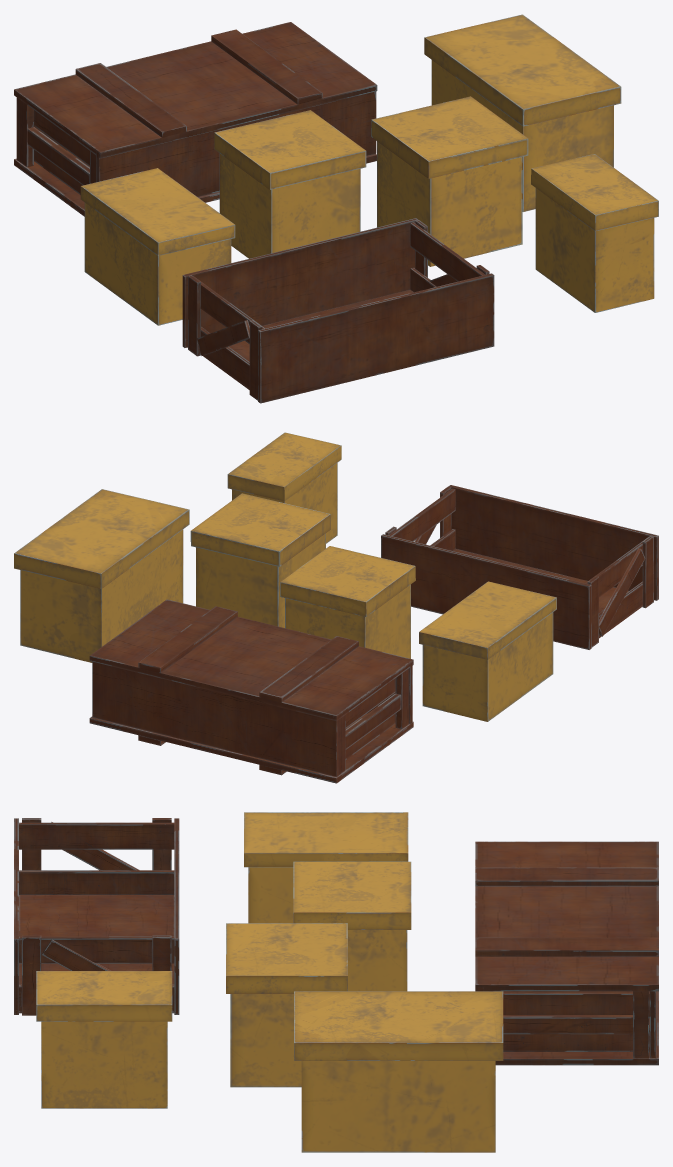
The picture shows the model from 3 angles, top to bottom: view 1: azimuth 30°, elevation 25°; view 2: azimuth 150°, elevation 25°; view 3: azimuth 270°, elevation 25°; orthographic projection. The views are drawn at different scales.
Parts seen in each view (by area): view 1: Wooden Box 2 Open, Wooden Box 1 Close, Box Carton Cover 3, Box Carton 1, Box Carton 5, Box Carton 4, Box Carton Cover 1, Box Carton 2, Box Carton Cover 2, Box Carton Cover 4, Box Carton 3, Box Carton Cover 5; view 2: Wooden Box 1 Close, Wooden Box 2 Open, Box Carton 3, Box Carton Cover 3, Box Carton 2, Box Carton Cover 1, Box Carton Cover 2, Box Carton Cover 4, Box Carton 1, Box Carton Cover 5, Box Carton 4, Box Carton 5; view 3: Wooden Box 1 Close, Wooden Box 2 Open, Box Carton 3, Box Carton Cover 3, Box Carton 5, Box Carton Cover 1, Box Carton Cover 2, Box Carton Cover 4, Box Carton Cover 5, Box Carton 1, Box Carton 4, Box Carton 2.
Boxes of the visible parts, x1=… form: Wooden Box 2 Open: x1=182, y1=218, x2=494, y2=403; Wooden Box 1 Close: x1=14, y1=22, x2=377, y2=216; Box Carton Cover 3: x1=424, y1=14, x2=621, y2=126; Box Carton 1: x1=377, y1=141, x2=522, y2=266; Box Carton 5: x1=535, y1=188, x2=654, y2=312; Box Carton 4: x1=219, y1=153, x2=360, y2=258; Box Carton Cover 1: x1=371, y1=96, x2=528, y2=178; Box Carton 2: x1=84, y1=202, x2=231, y2=325; Box Carton Cover 2: x1=80, y1=168, x2=235, y2=255; Box Carton Cover 4: x1=214, y1=110, x2=366, y2=189; Box Carton 3: x1=431, y1=60, x2=613, y2=211; Box Carton Cover 5: x1=531, y1=154, x2=658, y2=231; Wooden Box 1 Close: x1=89, y1=599, x2=413, y2=783; Wooden Box 2 Open: x1=381, y1=485, x2=658, y2=649; Box Carton 3: x1=20, y1=529, x2=183, y2=662; Box Carton Cover 3: x1=14, y1=489, x2=189, y2=588; Box Carton 2: x1=422, y1=612, x2=553, y2=721; Box Carton Cover 1: x1=190, y1=493, x2=330, y2=566; Box Carton Cover 2: x1=419, y1=581, x2=556, y2=659; Box Carton Cover 4: x1=280, y1=546, x2=415, y2=616; Box Carton 1: x1=196, y1=533, x2=325, y2=627; Box Carton Cover 5: x1=227, y1=432, x2=341, y2=501; Box Carton 4: x1=285, y1=584, x2=410, y2=658; Box Carton 5: x1=232, y1=463, x2=337, y2=543; Wooden Box 1 Close: x1=475, y1=841, x2=658, y2=1065; Wooden Box 2 Open: x1=14, y1=818, x2=179, y2=1015; Box Carton 3: x1=301, y1=1061, x2=495, y2=1152; Box Carton Cover 3: x1=294, y1=991, x2=503, y2=1060; Box Carton 5: x1=41, y1=1021, x2=167, y2=1108; Box Carton Cover 1: x1=226, y1=923, x2=347, y2=993; Box Carton Cover 2: x1=244, y1=812, x2=408, y2=867; Box Carton Cover 4: x1=293, y1=861, x2=411, y2=929; Box Carton Cover 5: x1=36, y1=971, x2=172, y2=1021; Box Carton 1: x1=230, y1=994, x2=301, y2=1087; Box Carton 4: x1=348, y1=930, x2=407, y2=991; Box Carton 2: x1=248, y1=867, x2=293, y2=923.
Size of the model in its own units: 2.17 by 2.32 by 0.4558.
